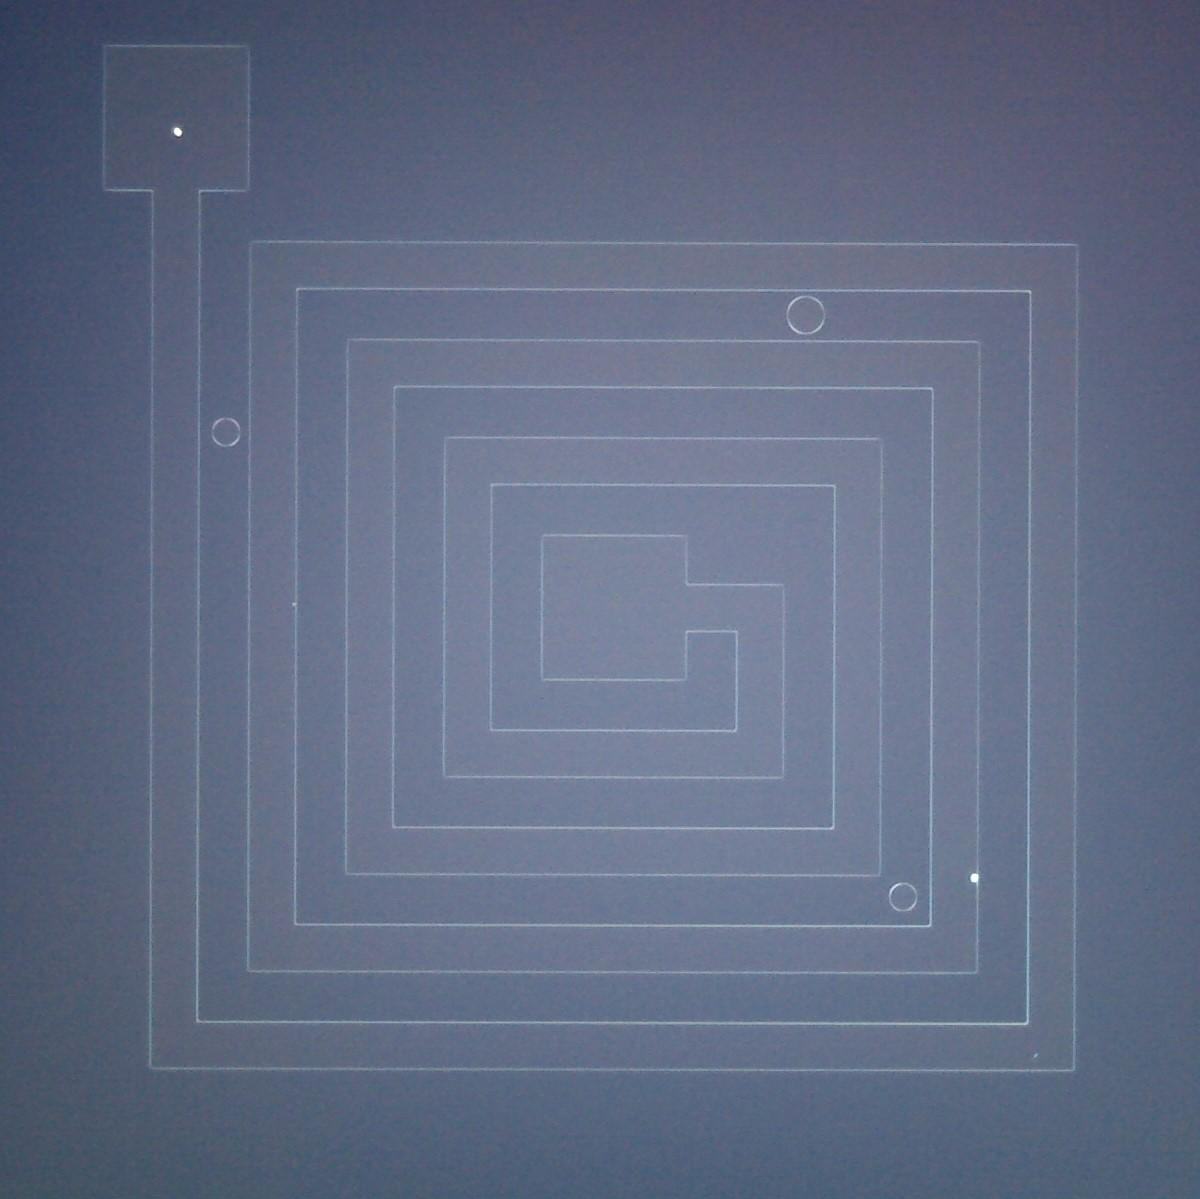B_point: (169, 122, 188, 142), (967, 870, 983, 887)
circle: (787, 295, 826, 336), (211, 416, 242, 448), (889, 882, 919, 912)
s_point: (1031, 1051, 1042, 1062), (290, 599, 300, 609)
